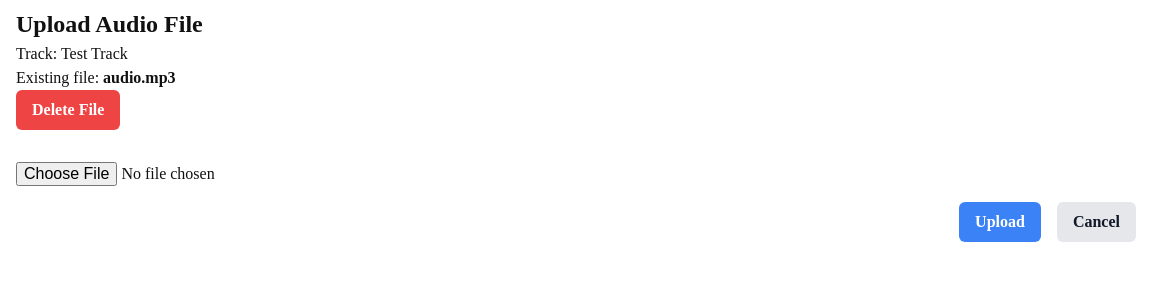
Scenario: UploadTrackModalContent › shows error if no file is selected on upload
The image size is (1152, 291).
What coordinates should you click on to do the following:
click the button "Upload"
I would click on:
 (1000, 222)
Its box is [959,202,1041,242].
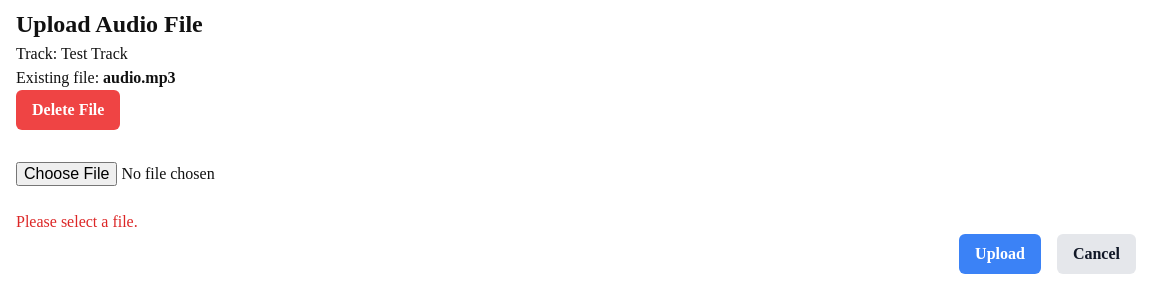
Check: the text "Please select a file." is shown, box [16,213,138,230]
